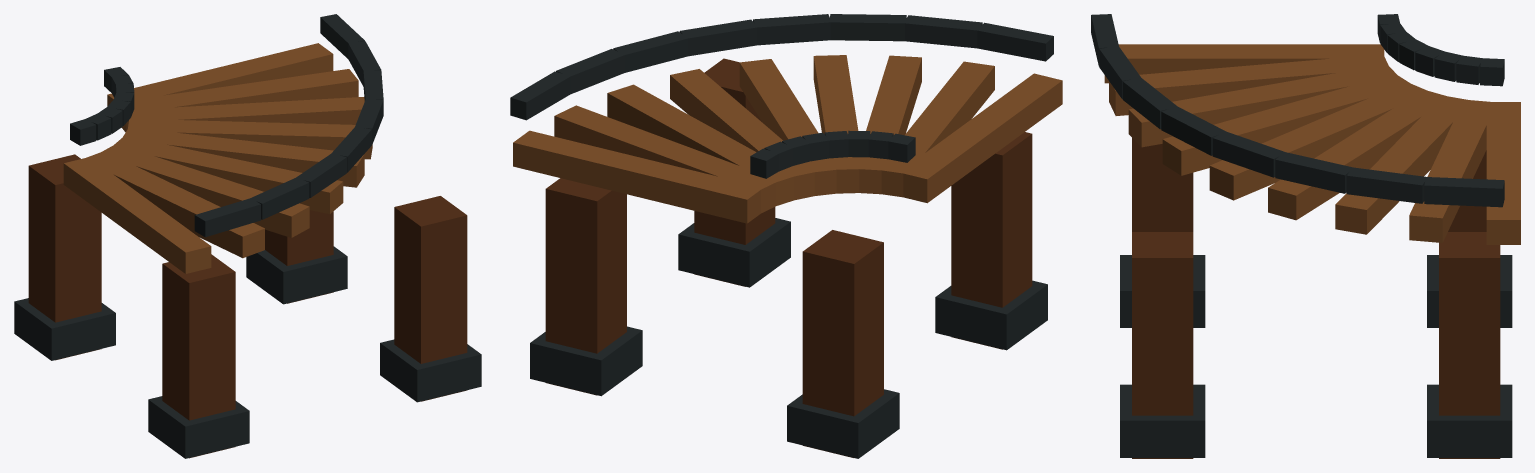
The model's file is vf_conveyor_corner.obj.
3 renders of one model, left to right at view 1: azimuth 30°, elevation 25°; view 2: azimuth 150°, elevation 25°; view 3: azimuth 270°, elevation 25°, orthographic. The views are drawn at different scales.
Visible parts, largest first — view 1: Static_OakLight, Static_Oak, Static_Iron; view 2: Static_OakLight, Static_Oak, Static_Iron; view 3: Static_OakLight, Static_Iron, Static_Oak.
Boxes of the visible parts, left/top/right/bottom form: Static_OakLight: left=63, top=43, right=372, bottom=273; Static_Oak: left=28, top=154, right=467, bottom=458; Static_Iron: left=14, top=14, right=481, bottom=458; Static_OakLight: left=513, top=55, right=1062, bottom=223; Static_Oak: left=545, top=58, right=1032, bottom=457; Static_Iron: left=510, top=14, right=1053, bottom=458; Static_OakLight: left=1104, top=44, right=1520, bottom=244; Static_Iron: left=1091, top=14, right=1512, bottom=457; Static_Oak: left=1132, top=138, right=1500, bottom=458.
Size of the model in its own units: 1.26 by 0.93 by 1.26.
